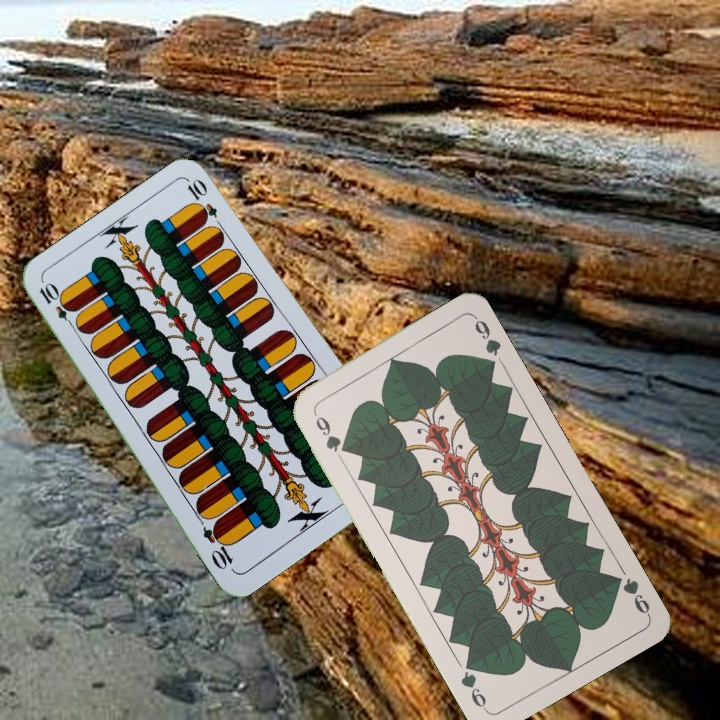E10: (35, 279, 80, 332)
G9: (607, 570, 653, 618), (309, 408, 351, 456)
